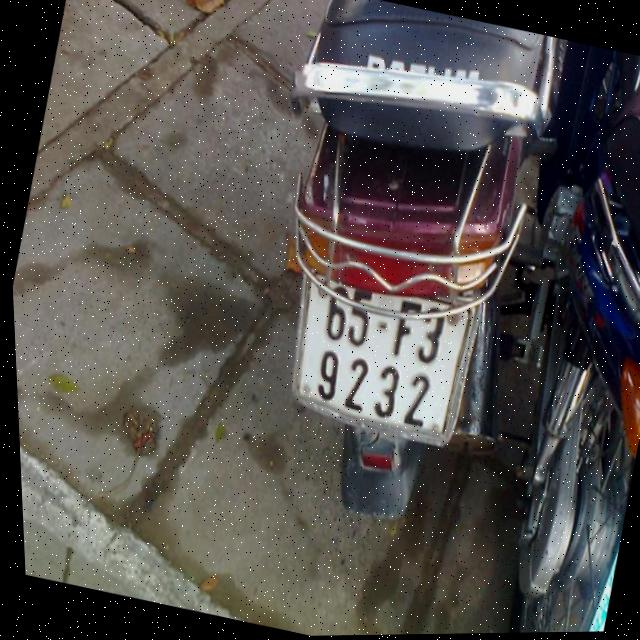motorcycle: (188, 0, 589, 563), (413, 37, 640, 634)
plate: (262, 263, 493, 455)
